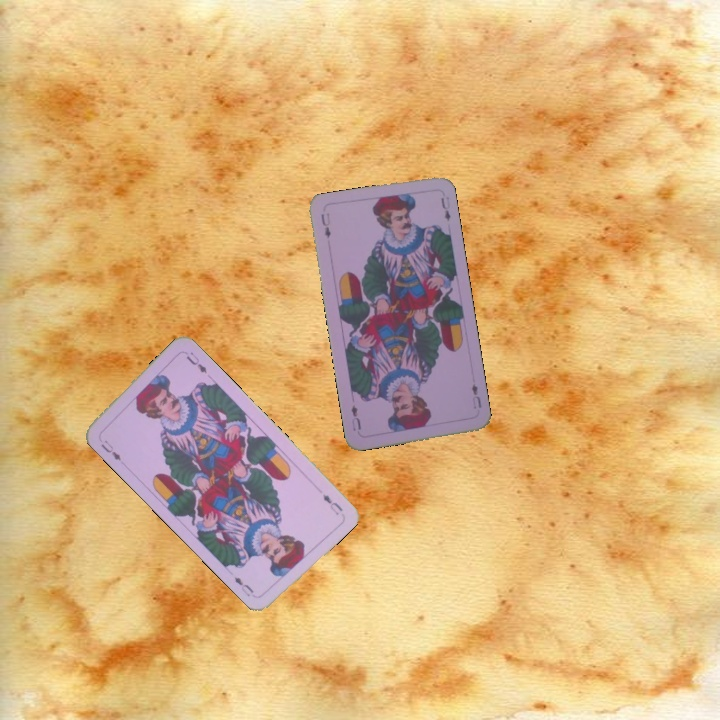EU: (96, 436, 124, 464), (318, 490, 345, 518), (467, 380, 484, 411), (317, 209, 333, 241)
